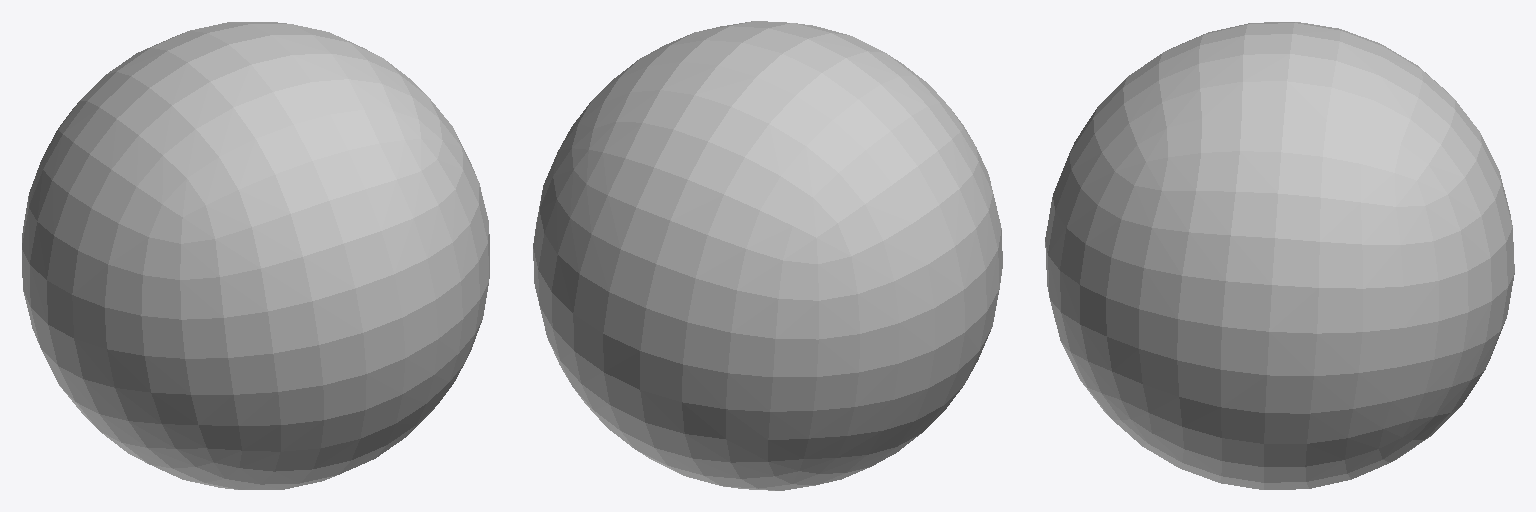
Rendered from earth.obj.
The picture shows the model from 3 angles: view 1: azimuth 30°, elevation 25°; view 2: azimuth 150°, elevation 25°; view 3: azimuth 270°, elevation 25°; orthographic projection.
Parts seen in each view (by area): view 1: Earth_Cube.002; view 2: Earth_Cube.002; view 3: Earth_Cube.002.
Part boxes in pixels (bbox=[...]): Earth_Cube.002: bbox=[22, 22, 489, 489]; Earth_Cube.002: bbox=[533, 21, 1002, 490]; Earth_Cube.002: bbox=[1045, 22, 1514, 489].
Bounding box in the file's own units: 6.31 × 6.31 × 6.33.